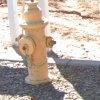a fire hydrant: (16, 0, 54, 86)
